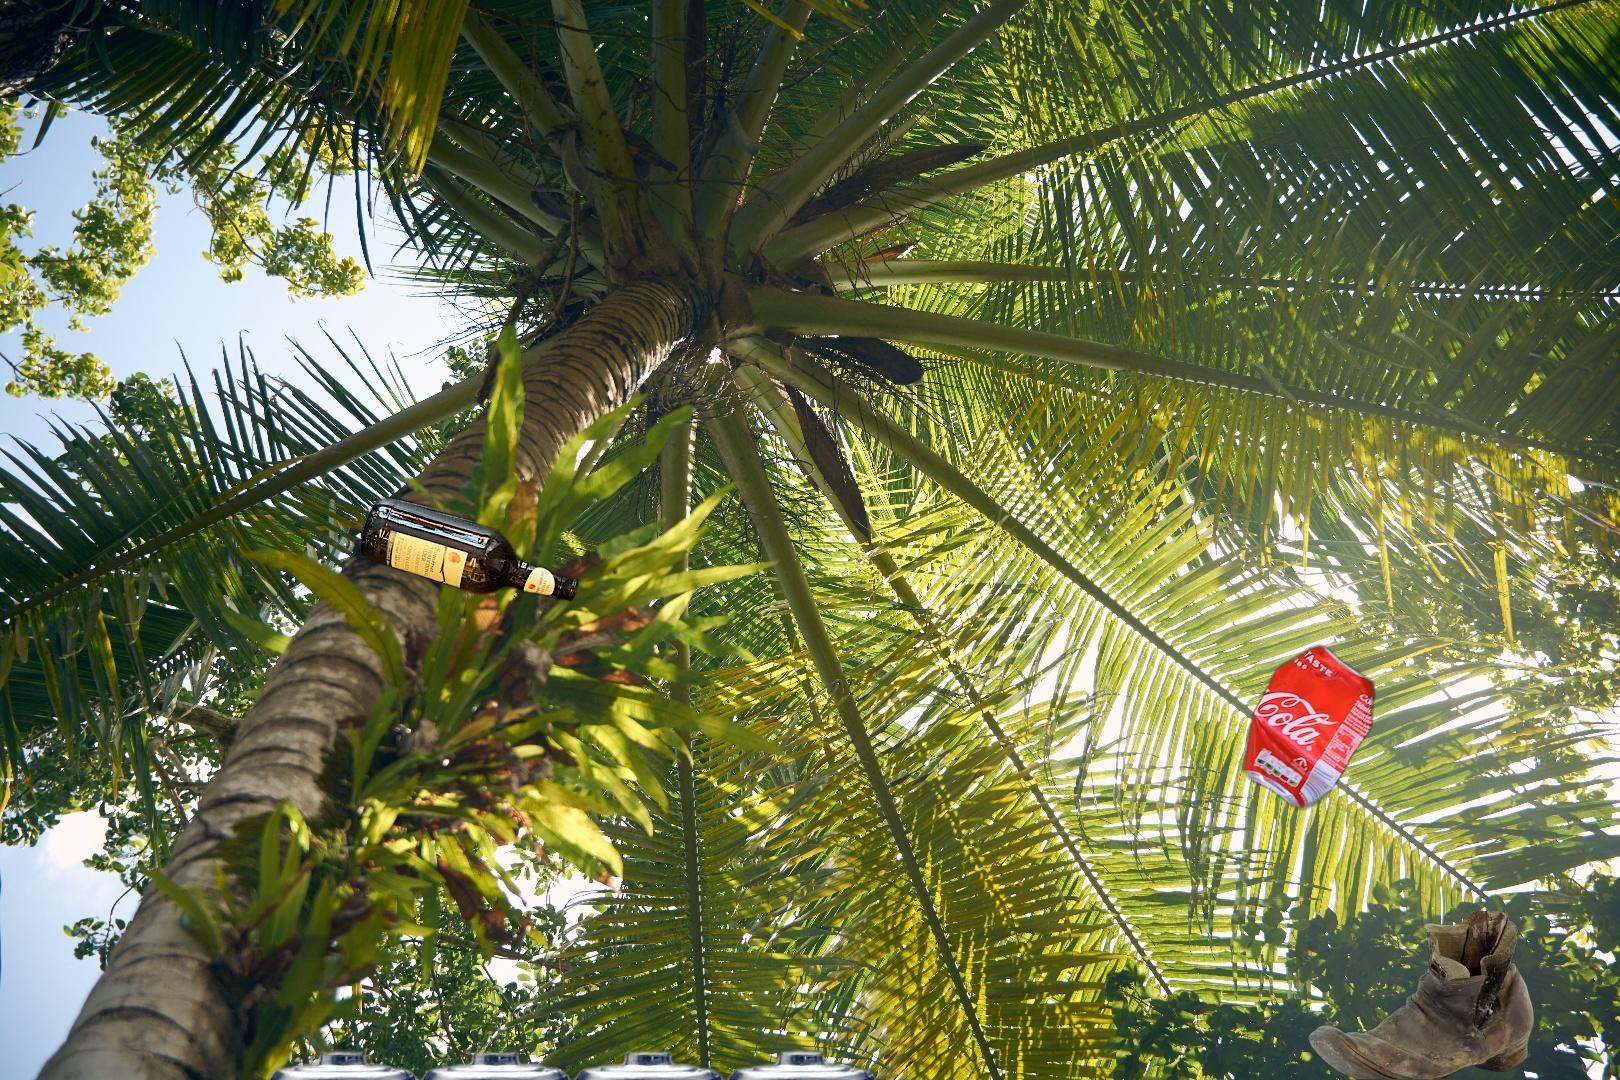battery: (262, 1043, 885, 1080)
glass: (356, 492, 583, 607)
metal-cans: (1237, 639, 1380, 816)
shoes: (1303, 911, 1546, 1079)
